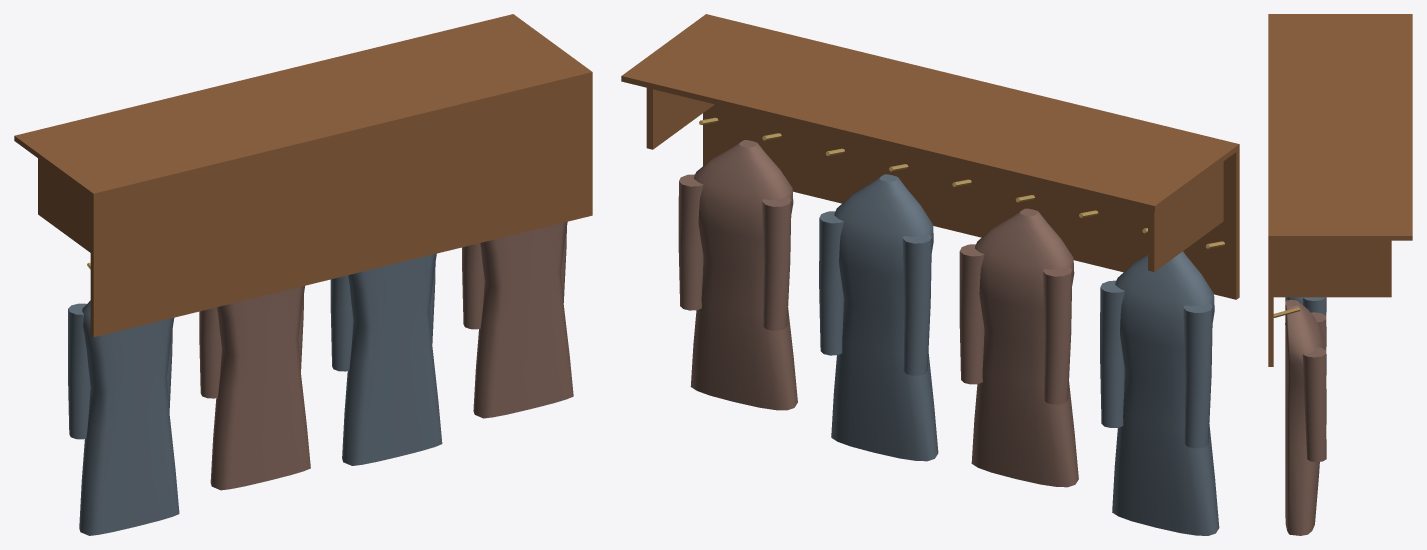
The model's file is parametric-wall-coat-rack-1st-2000x0550x1950.glb.
3 views of the same model, side by side, from view 1: azimuth 30°, elevation 25°; view 2: azimuth 150°, elevation 25°; view 3: azimuth 270°, elevation 25° (orthographic). The views are drawn at different scales.
Parts seen in each view (by area): view 1: backboard, hat-shelf, coat:0, coat:2, coat:1, coat:3, bracket:-1, coat-sleeve:0:-1, coat-sleeve:2:-1, coat-sleeve:1:-1, coat-sleeve:3:-1; view 2: hat-shelf, backboard, coat:2, coat:0, coat:1, coat:3, bracket:-1, coat-sleeve:0:-1, coat-sleeve:2:-1, coat-sleeve:1:-1, coat-sleeve:3:-1, coat-sleeve:0:1 (+4 smaller); view 3: hat-shelf, bracket:1, coat:3, coat-sleeve:3:1, backboard, coat-sleeve:2:1, coat-sleeve:3:-1.
Boxes of the visible parts, x1,y1,x2,y2 form: backboard: (90,77,592,337); hat-shelf: (14,14,592,198); coat:0: (79,300,179,535); coat:2: (342,253,442,465); coat:1: (210,286,310,490); coat:3: (473,221,573,418); bracket:-1: (38,158,90,252); coat-sleeve:0:-1: (68,303,90,439); coat-sleeve:2:-1: (330,275,353,371); coat-sleeve:1:-1: (199,307,221,398); coat-sleeve:3:-1: (462,243,484,329); hat-shelf: (621,14,1239,211); backboard: (703,104,1239,299); coat:2: (831,174,938,461); coat:0: (1112,251,1219,535); coat:1: (971,208,1078,487); coat:3: (690,140,797,410); bracket:-1: (1148,161,1223,271); coat-sleeve:0:-1: (1183,303,1212,448); coat-sleeve:2:-1: (902,233,931,375); coat-sleeve:1:-1: (1043,267,1072,404); coat-sleeve:3:-1: (762,197,791,330); coat-sleeve:0:1: (1100,280,1124,427); hat-shelf: (1268,14,1412,240); bracket:1: (1273,240,1391,297); coat:3: (1285,300,1324,535); coat-sleeve:3:1: (1302,347,1326,462); backboard: (1268,240,1273,366); coat-sleeve:2:1: (1302,297,1326,404); coat-sleeve:3:-1: (1311,312,1326,424).
Size of the model in its own units: 2 by 1.35 by 0.55.
